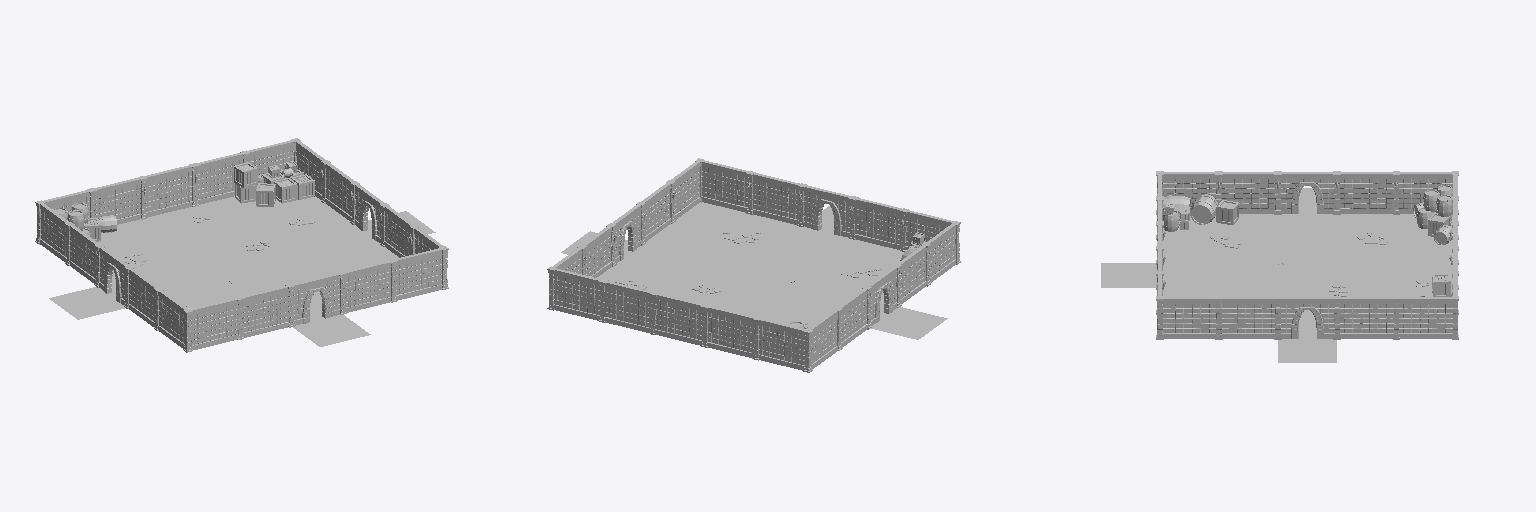
Rendered from dungeon.obj.
3 renders of one model, left to right at view 1: azimuth 30°, elevation 25°; view 2: azimuth 150°, elevation 25°; view 3: azimuth 270°, elevation 25°, orthographic.
Visible parts, largest first — view 1: Wall A, Wall A.004, Wall A.001, Wall A.002, Wall A.010, Doorway.001, Wall A.009, Wall A.011, Floor.006, Floor.010, Floor.011, Floor.014 (+25 smaller); view 2: Wall A.010, Wall A.009, Wall A.011, Wall A.008, Wall A.002, Wall A.001, Wall A.012, Doorway.001, Wall A.004, Floor.006, Floor.009, Floor.010 (+25 smaller); view 3: Wall A.003, Wall A.016, Wall A.007, Wall A.014, Doorway.002, Doorway.003, Wall.001, Wall.002, Wall A.013, Floor.009, Floor.006, Floor.011 (+16 smaller).
Part boxes in pixels (bbox=[...]): Wall A: bbox=[183, 298, 237, 352]; Wall A.004: bbox=[395, 246, 448, 299]; Wall A.001: bbox=[234, 286, 288, 339]; Wall A.002: bbox=[344, 259, 397, 312]; Wall A.010: bbox=[138, 165, 192, 219]; Doorway.001: bbox=[285, 271, 346, 327]; Wall A.009: bbox=[189, 153, 243, 206]; Wall A.011: bbox=[87, 178, 141, 224]; Floor.006: bbox=[151, 261, 228, 294]; Floor.010: bbox=[203, 250, 281, 281]; Floor.011: bbox=[173, 227, 247, 260]; Floor.014: bbox=[254, 236, 333, 269]; Wall A.010: bbox=[656, 293, 710, 347]; Wall A.009: bbox=[605, 281, 658, 334]; Wall A.011: bbox=[707, 306, 760, 360]; Wall A.008: bbox=[554, 269, 608, 322]; Wall A.002: bbox=[746, 171, 799, 224]; Wall A.001: bbox=[855, 198, 908, 251]; Wall A.012: bbox=[758, 318, 812, 371]; Doorway.001: bbox=[797, 183, 858, 239]; Wall A.004: bbox=[695, 158, 748, 212]; Floor.006: bbox=[765, 282, 844, 314]; Floor.009: bbox=[744, 247, 823, 279]; Floor.010: bbox=[718, 269, 793, 302]; Wall A.003: bbox=[1163, 296, 1222, 339]; Wall A.016: bbox=[1399, 296, 1458, 339]; Wall A.007: bbox=[1340, 296, 1399, 339]; Wall A.014: bbox=[1340, 171, 1399, 214]; Doorway.002: bbox=[1274, 296, 1340, 339]; Doorway.003: bbox=[1274, 171, 1340, 214]; Wall.001: bbox=[1222, 297, 1274, 338]; Wall.002: bbox=[1222, 172, 1275, 213]; Wall A.013: bbox=[1163, 171, 1222, 205]; Floor.009: bbox=[1219, 263, 1277, 287]; Floor.006: bbox=[1278, 238, 1336, 262]; Floor.011: bbox=[1337, 263, 1395, 287].
Bounding box in the file's own units: 28 × 3.07 × 24.26.